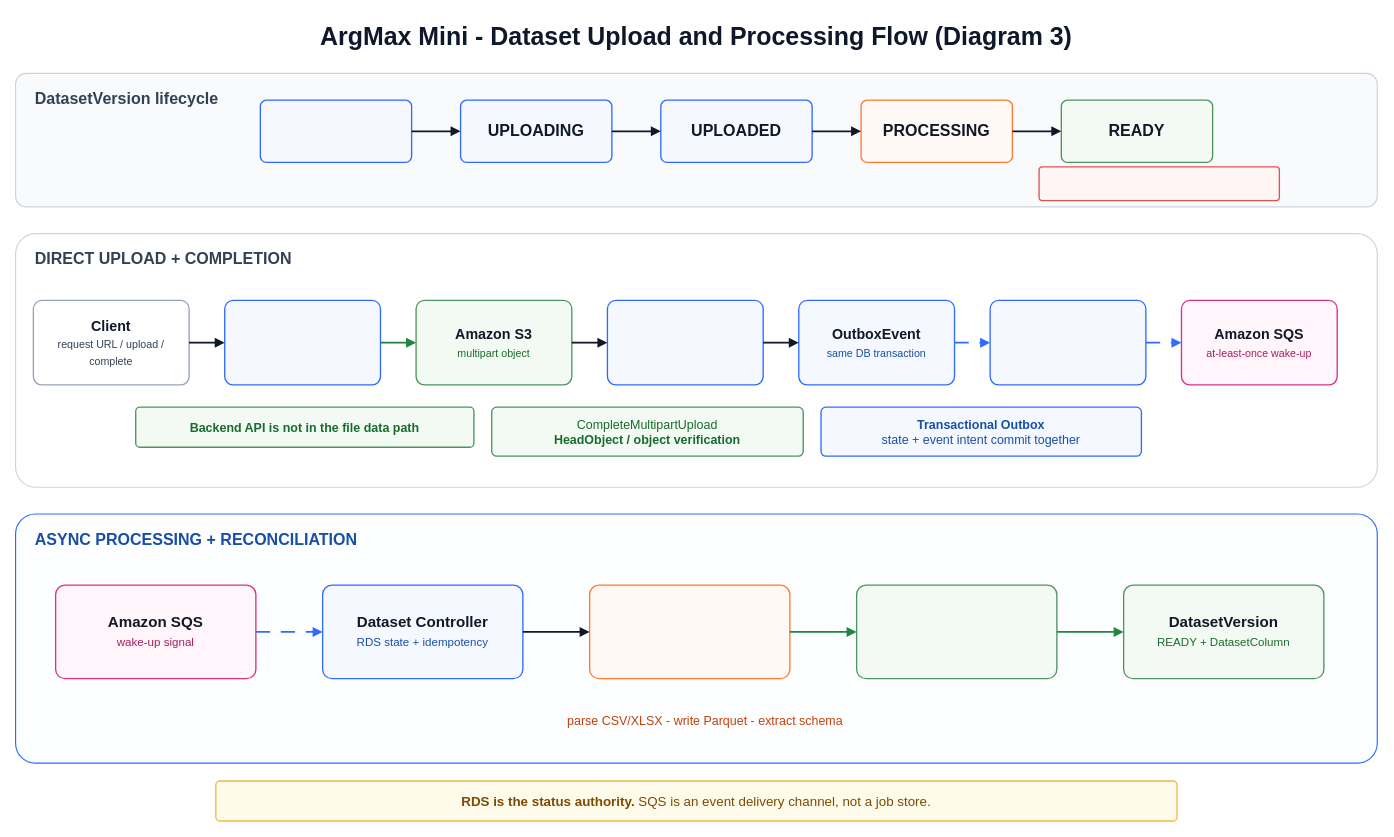
This 1394x837 diagram has some shape labels left out. Each missing label, with the centre of its shape:
Amazon S3 processed Parquet: (956,631)
Backend API create version + presigned URL: (302,342)
DatasetVersion UPLOADED after verification: (684,342)
FAILED from upload or processing: (1159,183)
Outbox Publisher claim + publish: (1067,342)
PENDING: (335,131)
Processing Job Managed Node Group: (689,631)
